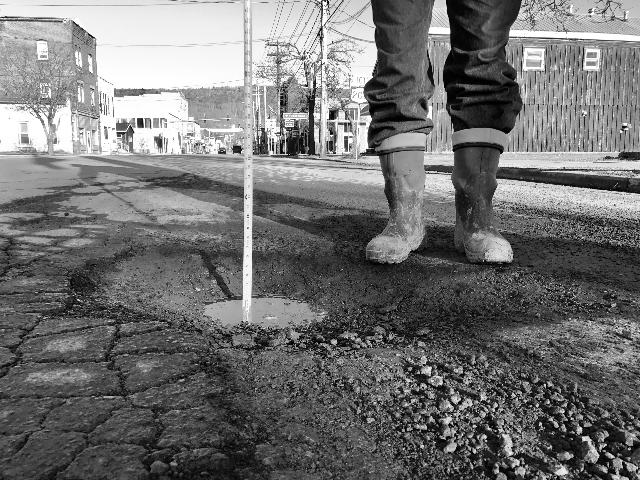Pothole: (69, 228, 453, 374)
